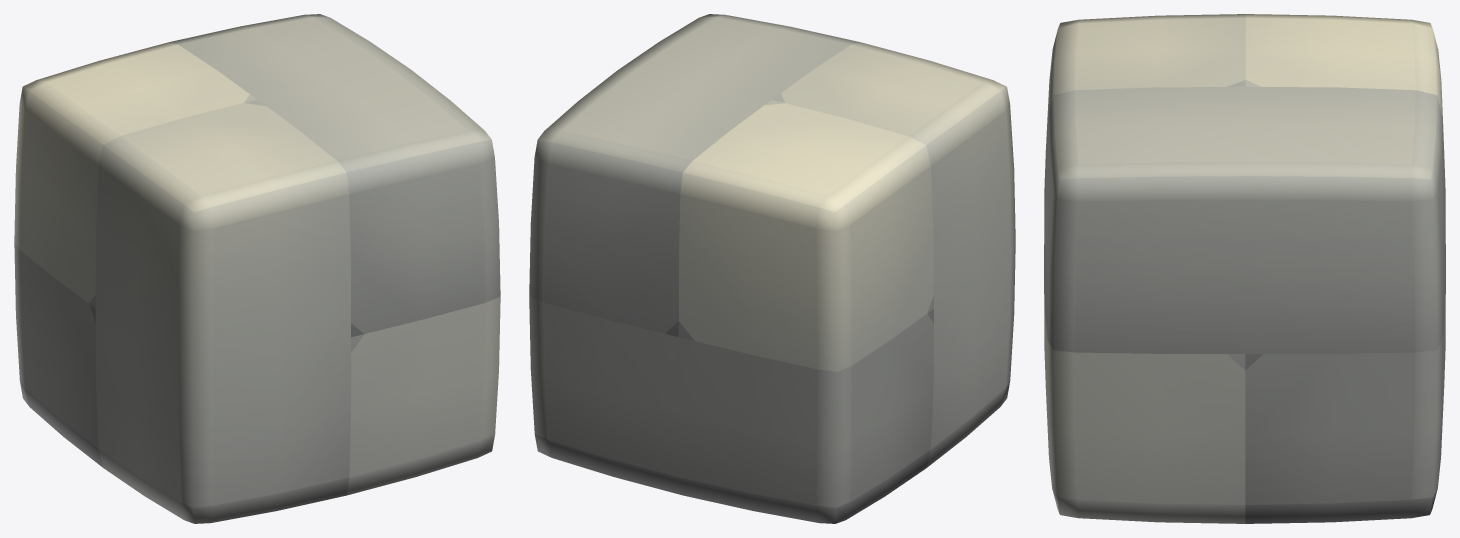
Rendered from block_stone2_1_LOD_setup.fbx.
3 renders of one model, left to right at view 1: azimuth 30°, elevation 25°; view 2: azimuth 150°, elevation 25°; view 3: azimuth 270°, elevation 25°, orthographic. The views are drawn at different scales.
Parts seen in each view (by area): view 1: block_stone2_1_LOD0; view 2: block_stone2_1_LOD0; view 3: block_stone2_1_LOD0.
Part boxes in pixels (<box>): block_stone2_1_LOD0: <box>14,14,500,523</box>; block_stone2_1_LOD0: <box>529,14,1015,523</box>; block_stone2_1_LOD0: <box>1044,14,1445,523</box>.
Size of what is drawn, in the model's own units: 109 by 109 by 109.
